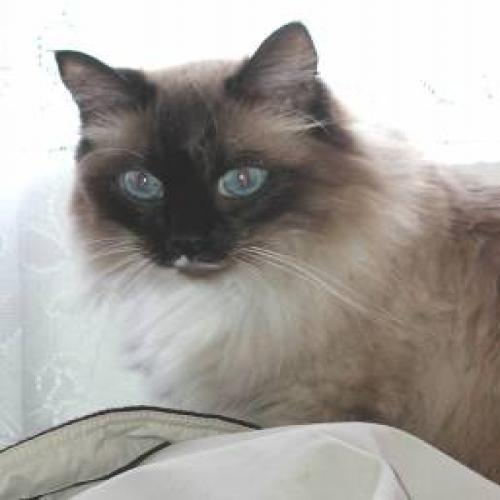siamese: (43, 18, 361, 305)
